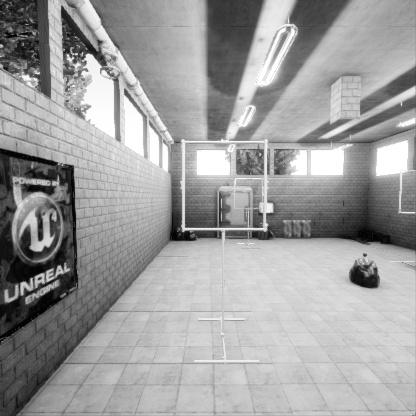gate: (183, 189, 272, 277), (234, 208, 265, 239), (404, 203, 416, 248)
